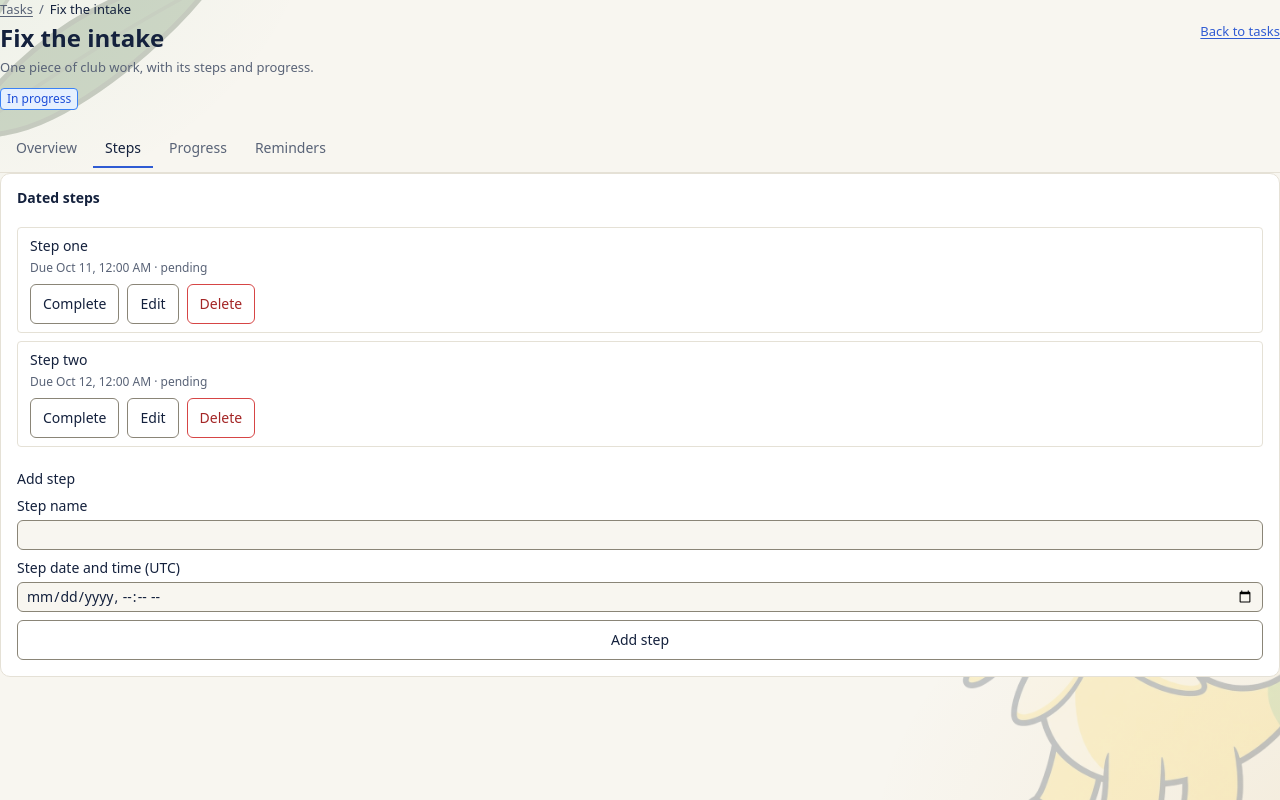
it: R1 destructive confirmations (detail) › step Delete confirm sends exactly one DELETE with { version } and lands on the heading; second open names the new step
Click the button "Delete" below "Step one" at (221, 304), box 186,284 -> 255,324
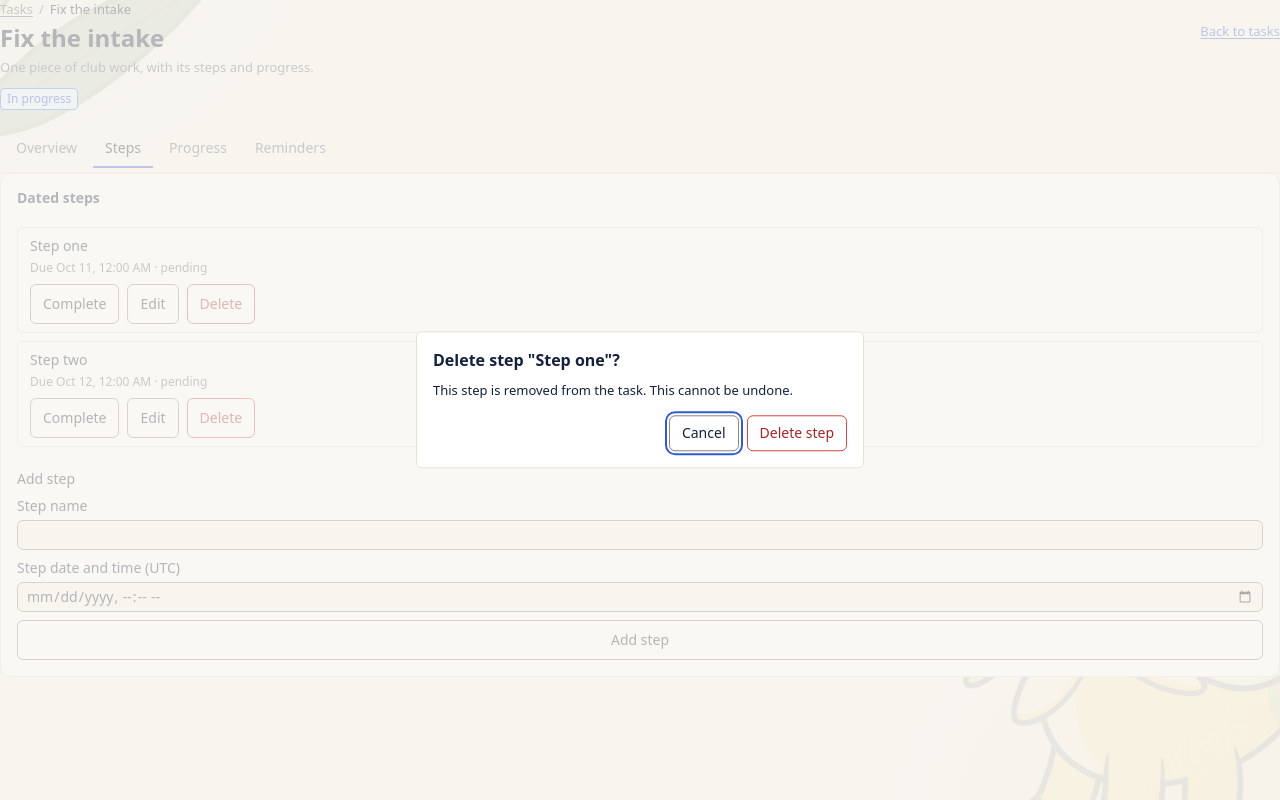
Check: the heading "Delete step \"Step one\"?" is shown, box 433,349 -> 620,371
Press Escape
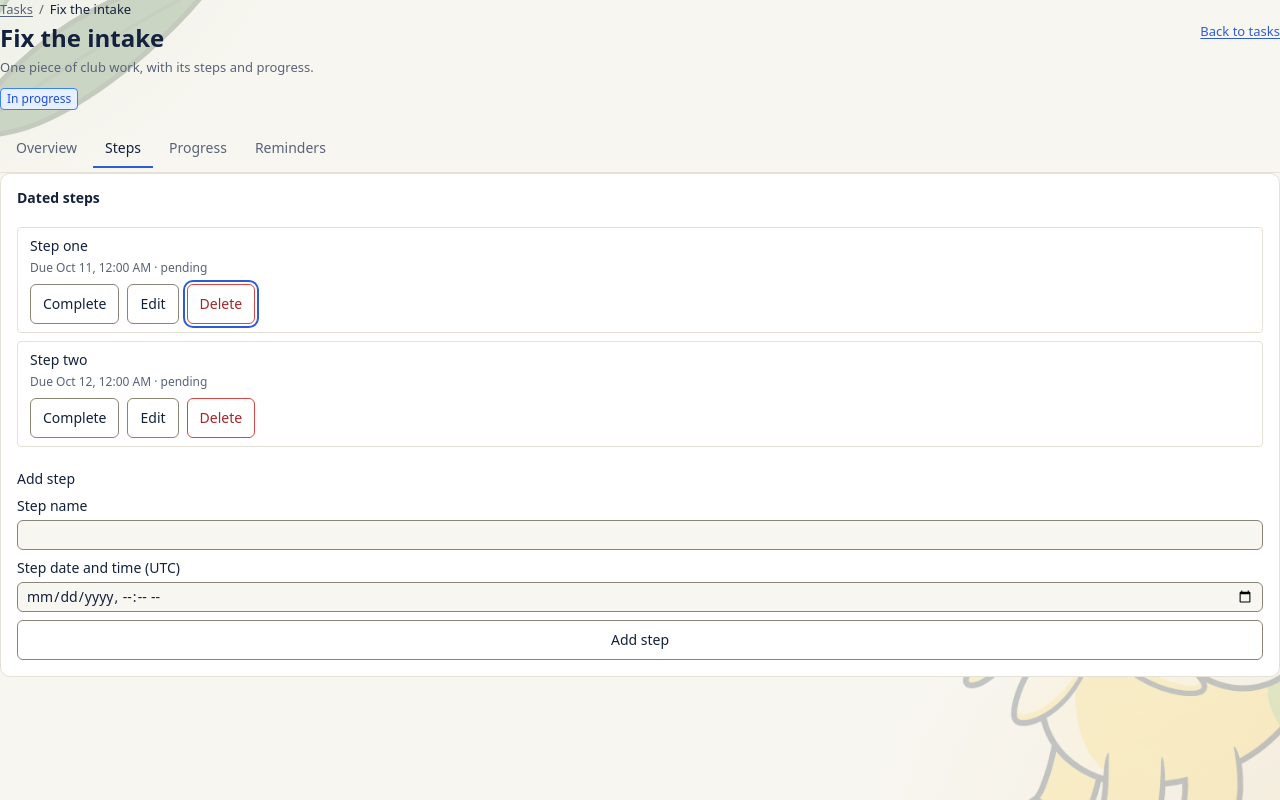
Check: the dialog is gone
Click the button "Delete" below "Step two" at (221, 418), box 186,398 -> 255,438
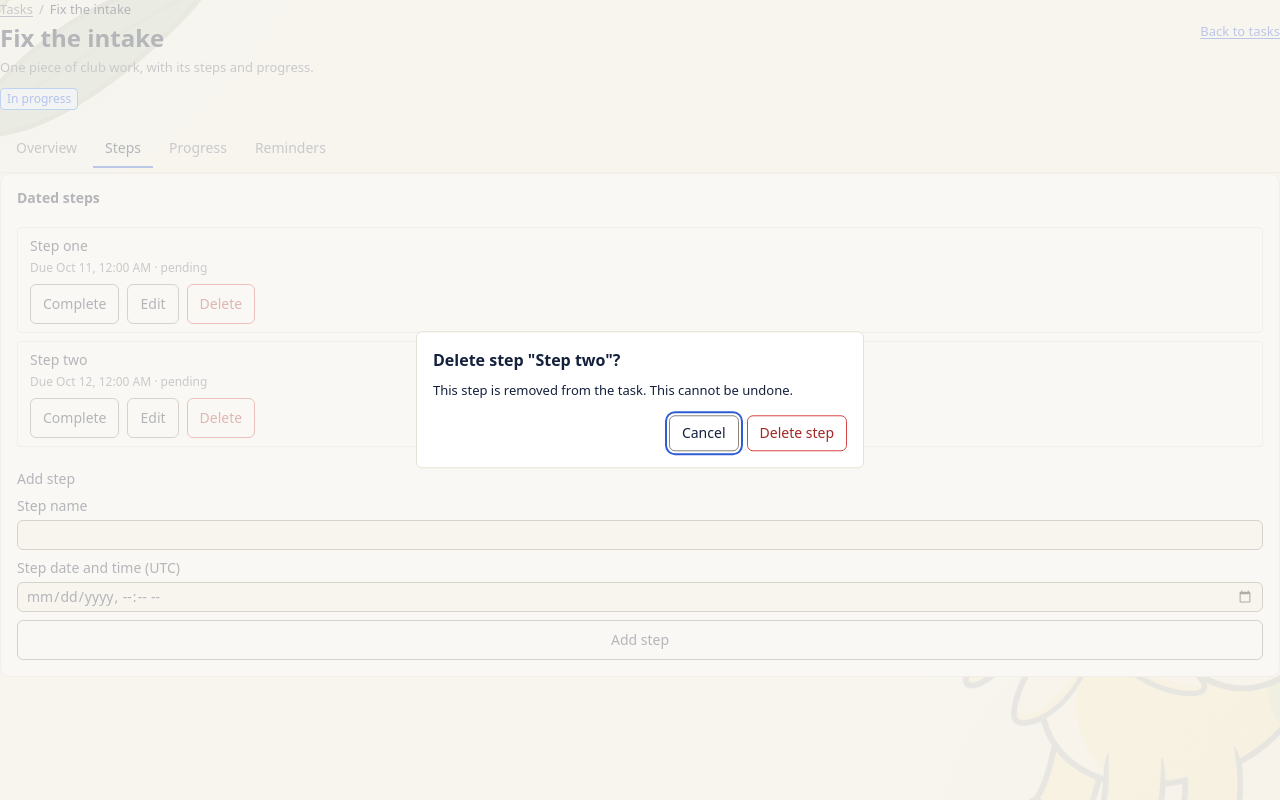
Check: the heading "Delete step \"Step two\"?" is shown, box 433,349 -> 620,371
Click the button "Delete step" at (797, 434), box 746,416 -> 847,452
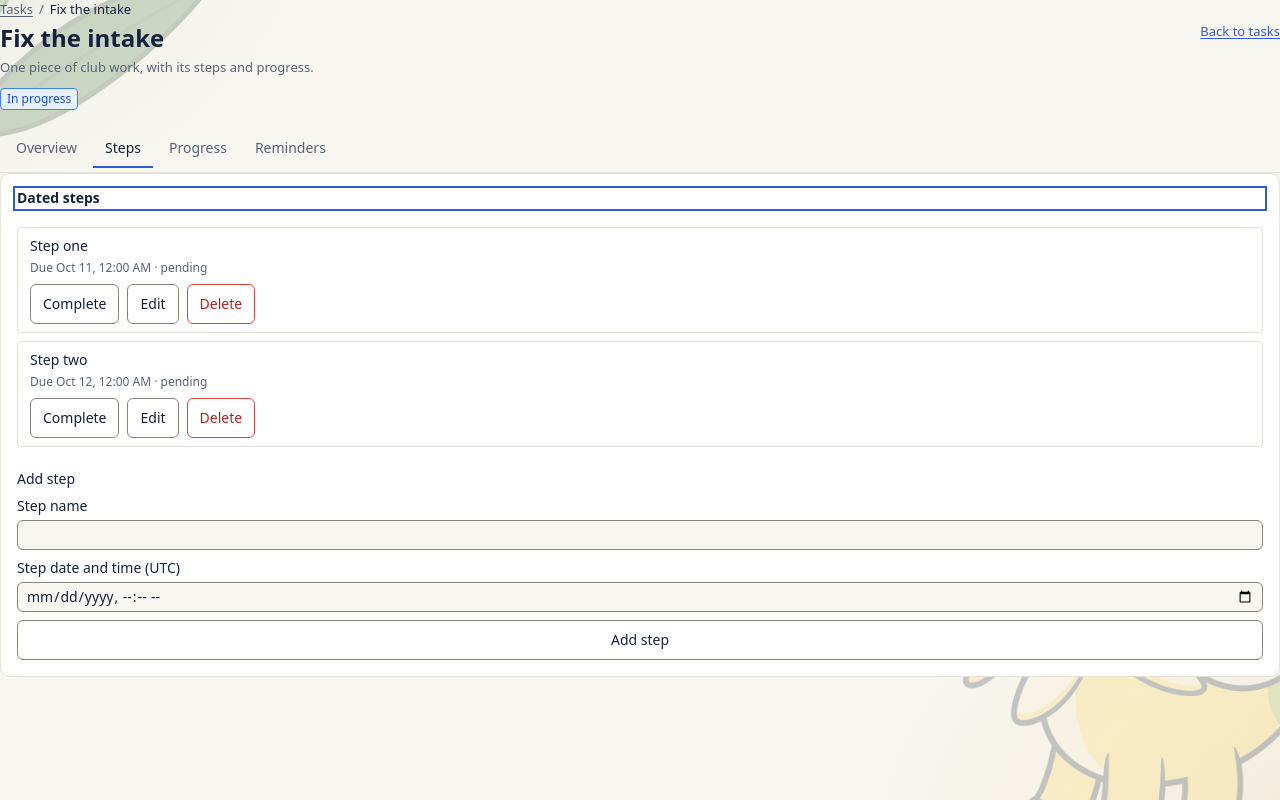
Check: the dialog is gone
